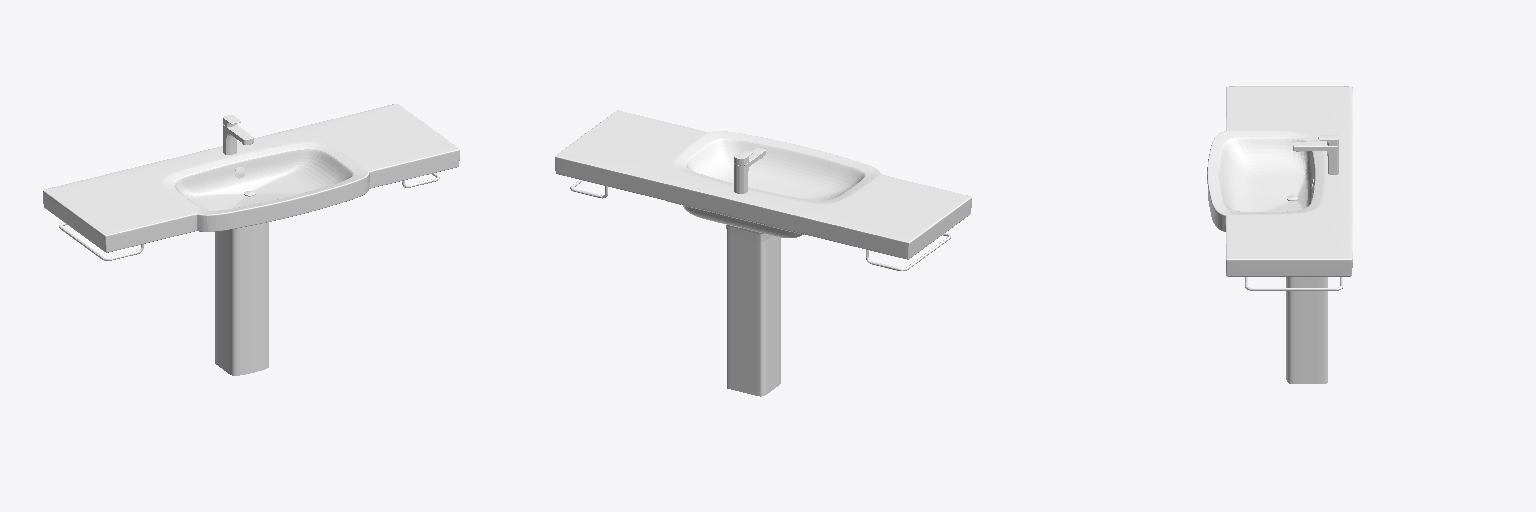
File: lavabo.obj
The picture shows the model from 3 angles: view 1: azimuth 30°, elevation 25°; view 2: azimuth 150°, elevation 25°; view 3: azimuth 270°, elevation 25°; orthographic projection.
Parts seen in each view (by area): view 1: Waschtisc0, Hahn; view 2: Waschtisc0, Hahn; view 3: Waschtisc0, Hahn.
Boxes of the visible parts, <box> form: Waschtisc0: <box>43,104,459,375</box>; Hahn: <box>223,115,253,154</box>; Waschtisc0: <box>555,110,971,396</box>; Hahn: <box>734,148,765,193</box>; Waschtisc0: <box>1207,86,1352,383</box>; Hahn: <box>1293,135,1338,174</box>.
Size of the model in its own units: 22.43 by 14.36 by 7.95.